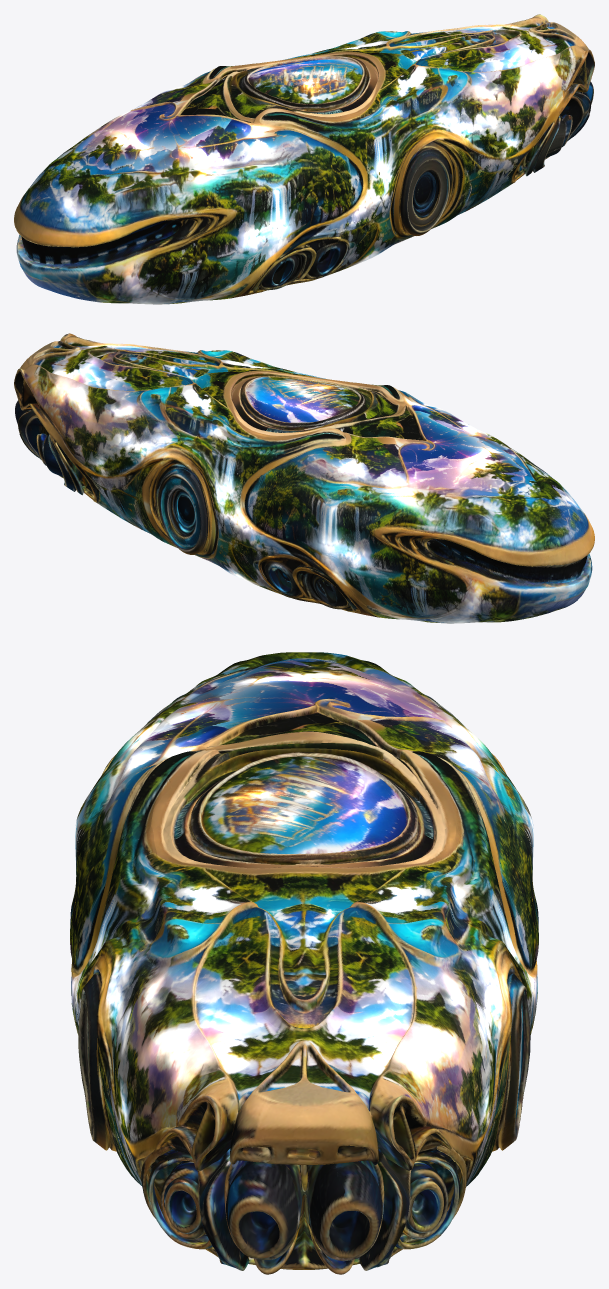
Rendered from starpod_horizon_v1.glb.
The picture shows the model from 3 angles, top to bottom: view 1: azimuth 30°, elevation 25°; view 2: azimuth 150°, elevation 25°; view 3: azimuth 270°, elevation 25°; orthographic projection. The views are drawn at different scales.
Bounding box in the file's own units: 1.9 × 0.5805 × 0.6936.
1 material, 1 textured.
